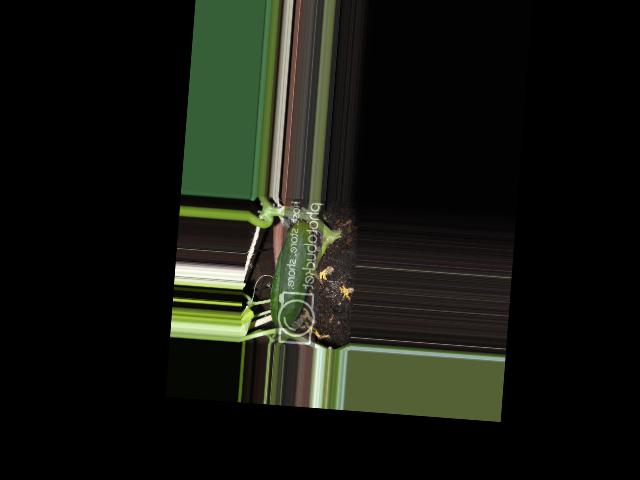cucumber: (268, 219, 316, 328)
